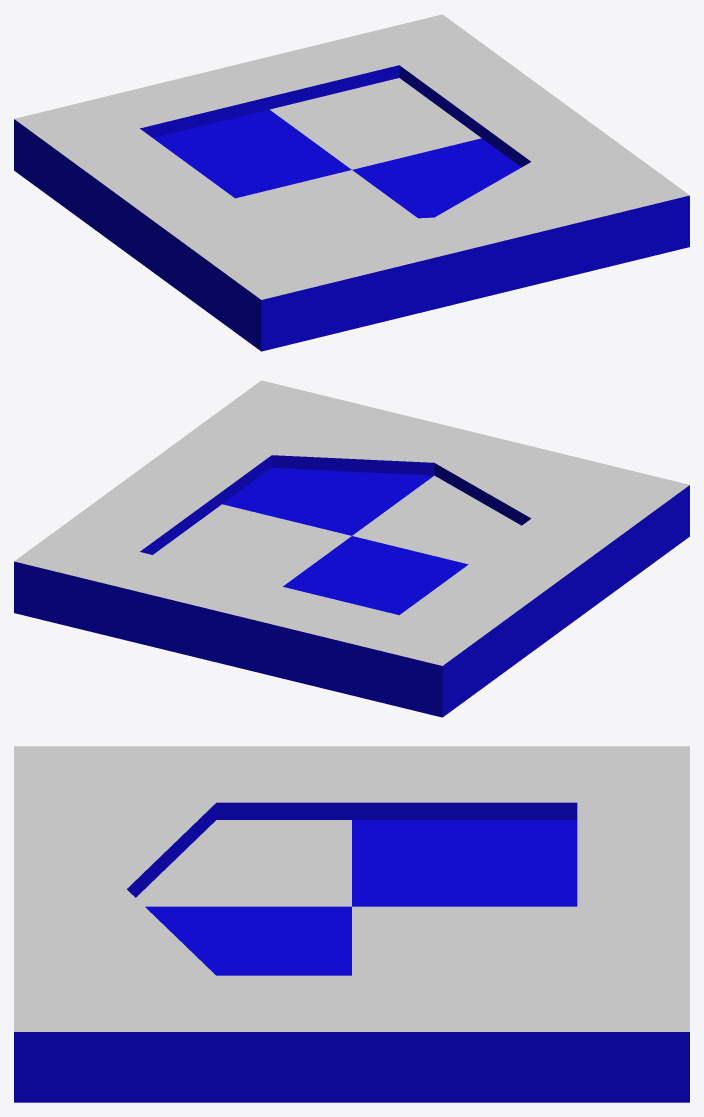
The model's file is Armorpack.fbx.
3 views of the same model, one above another, from view 1: azimuth 30°, elevation 25°; view 2: azimuth 150°, elevation 25°; view 3: azimuth 270°, elevation 25° (orthographic). The views are drawn at different scales.
Parts seen in each view (by area): view 1: Cube; view 2: Cube; view 3: Cube.
Part boxes in pixels (x1=…): Cube: x1=14, y1=14, x2=689, y2=351; Cube: x1=14, y1=380, x2=689, y2=717; Cube: x1=14, y1=746, x2=689, y2=1102.
Size of the model in its own units: 200 by 23.01 by 200.
